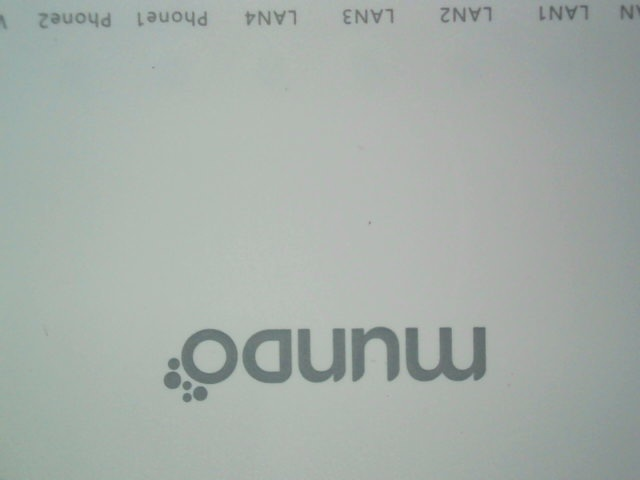BI_MUNDO: (141, 316, 496, 415)
